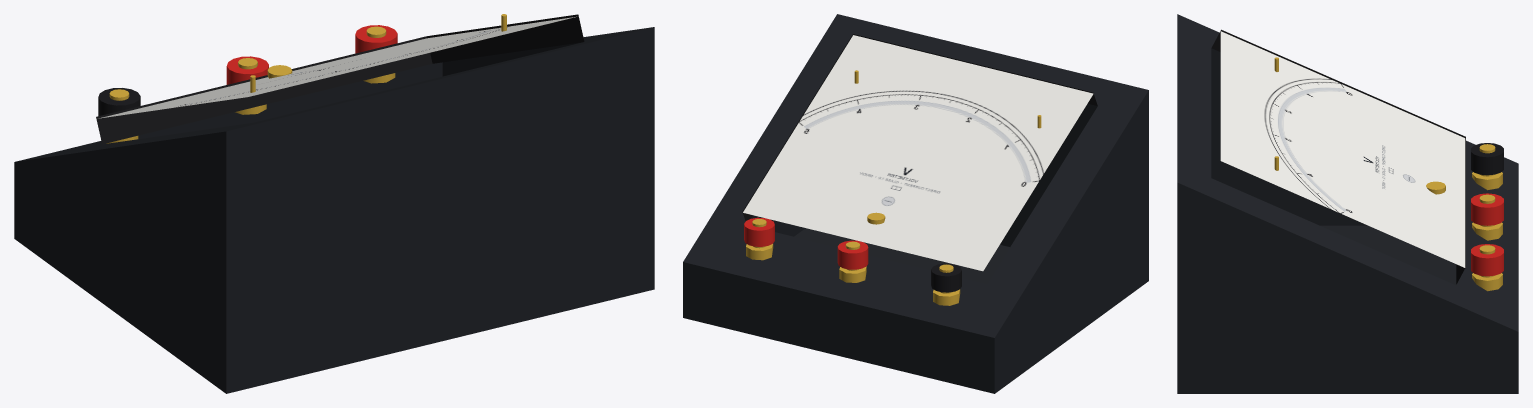
The model's file is Voltmeter_Lab_Pro.obj.
The picture shows the model from 3 angles, left to right: view 1: azimuth 30°, elevation 25°; view 2: azimuth 150°, elevation 25°; view 3: azimuth 270°, elevation 25°; orthographic projection. The views are drawn at different scales.
Size of the model in its own units: 0.14 by 0.0864 by 0.12.
